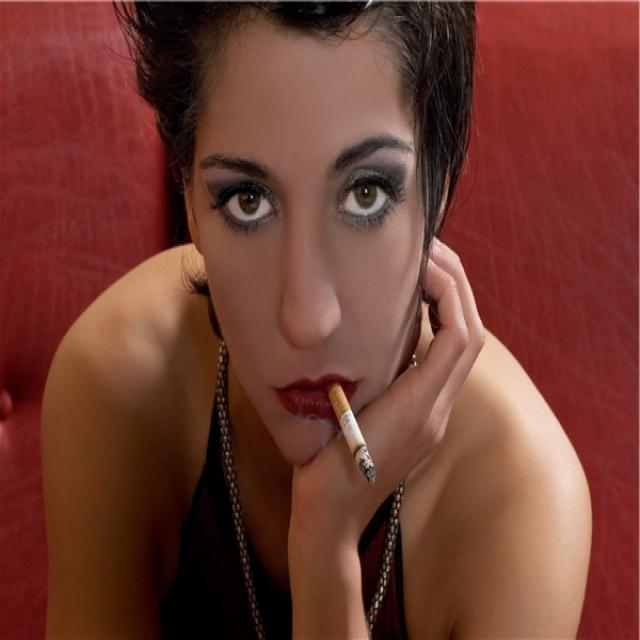smoking: (324, 382, 376, 484)
